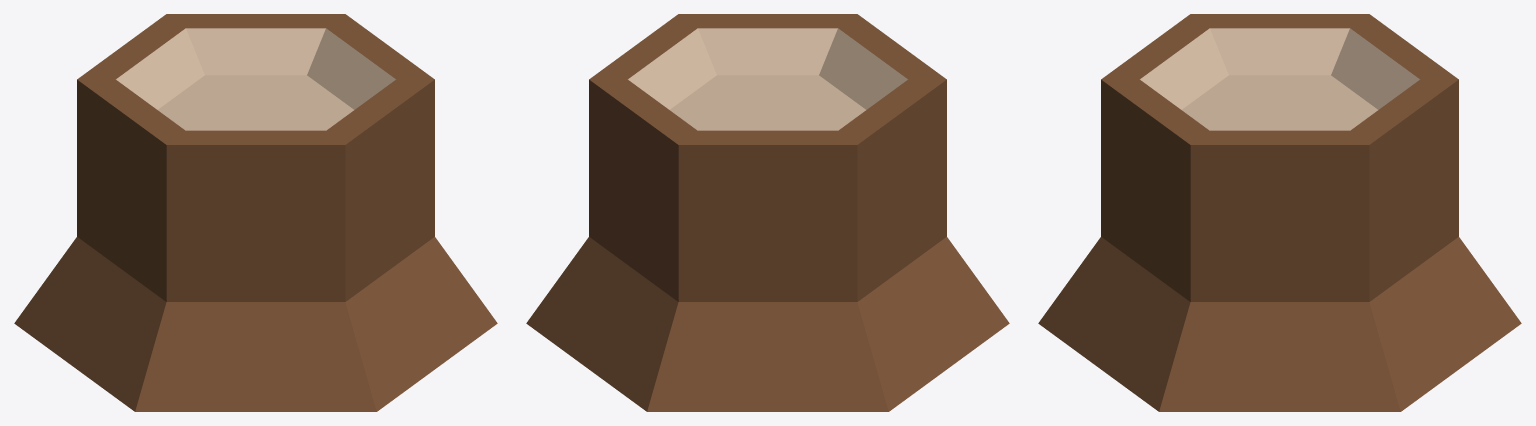
The model's file is stump_round.glb.
3 renders of one model, left to right at view 1: azimuth 30°, elevation 25°; view 2: azimuth 150°, elevation 25°; view 3: azimuth 270°, elevation 25°, orthographic.
Visible parts, largest first — view 1: stump_round; view 2: stump_round; view 3: stump_round.
Boxes of the visible parts, x1,y1,x2,y2 form: stump_round: (14,14,497,411); stump_round: (526,14,1009,411); stump_round: (1038,14,1521,411).
Size of the model in its own units: 0.3213 by 0.2065 by 0.371.
